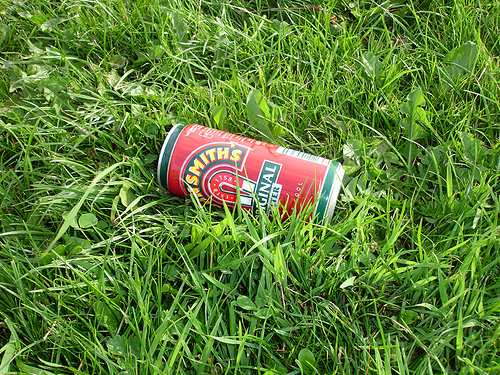litter: (156, 123, 346, 227)
